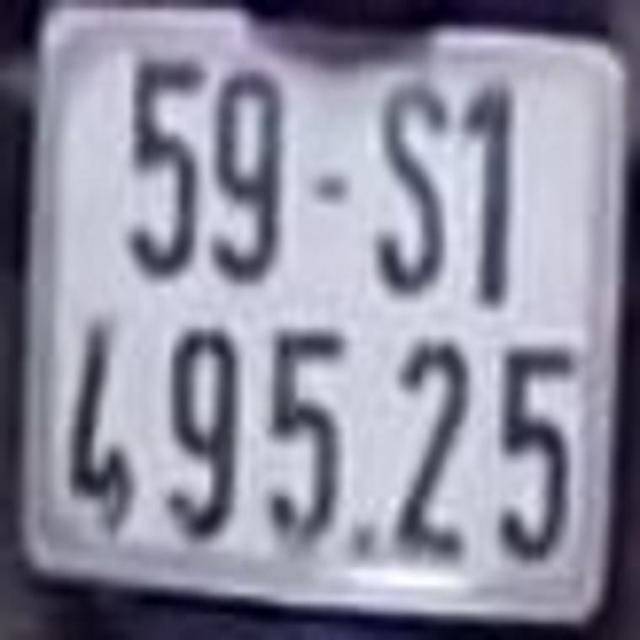1: (457, 74, 519, 311)
2: (386, 329, 468, 562)
4: (60, 308, 136, 534)
5: (264, 324, 346, 543), (125, 54, 203, 278), (497, 338, 575, 561)
9: (164, 320, 240, 544), (210, 63, 282, 284)
S: (373, 75, 451, 296)
